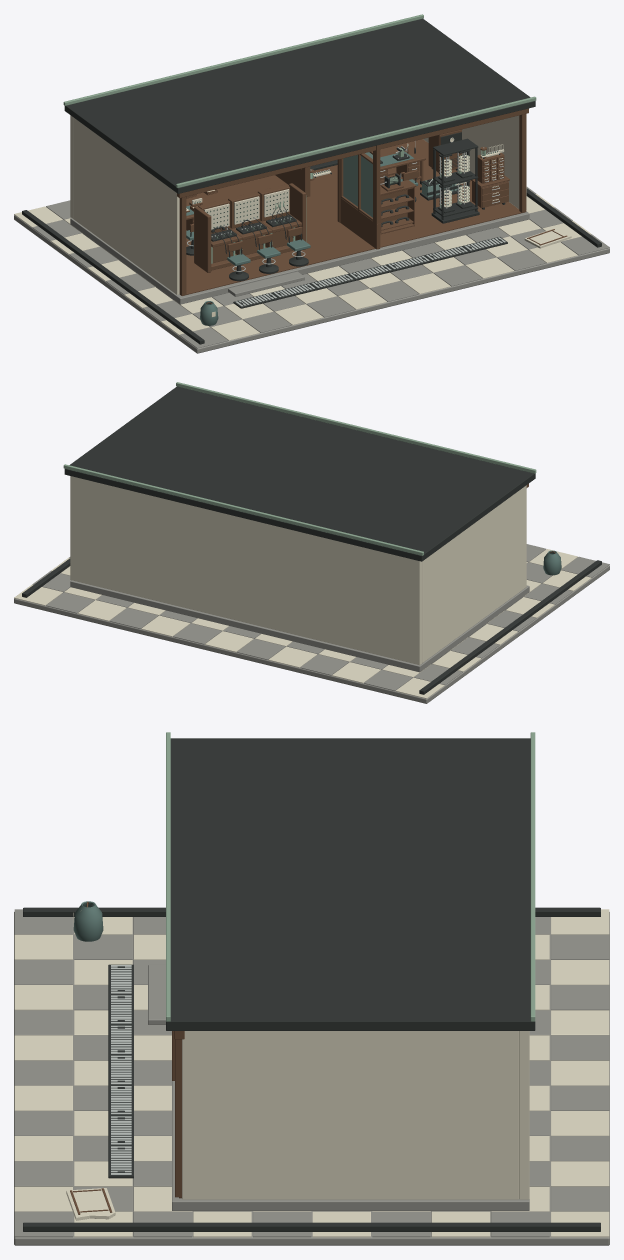
Rendered from abandoned-telephone-exchange-silent-oper-67480b84-starter-scene__32025.glb.
3 views of the same model, one above another, from view 1: azimuth 30°, elevation 25°; view 2: azimuth 150°, elevation 25°; view 3: azimuth 270°, elevation 25° (orthographic). The views are drawn at different scales.
Parts seen in each view (by area): view 1: 001-roofed-exchange-building/1, 001-roofed-exchange-building/2, 000-exchange-floor-base/2, 001-roofed-exchange-building/0, 000-exchange-floor-base/1, 001-roofed-exchange-building/4, 001-roofed-exchange-building/3, 032-selector-equipment-rack/1, 000-exchange-floor-base/0, 003-glazed-operator-partition/1, 044-spare-handset-cabinet/1, 003-glazed-operator-partition/3 (+14 smaller); view 2: 001-roofed-exchange-building/2, 001-roofed-exchange-building/1, 000-exchange-floor-base/2, 000-exchange-floor-base/1, 001-roofed-exchange-building/3, 001-roofed-exchange-building/4, 000-exchange-floor-base/0; view 3: 001-roofed-exchange-building/1, 001-roofed-exchange-building/2, 000-exchange-floor-base/2, 000-exchange-floor-base/1, 000-exchange-floor-base/0, 001-roofed-exchange-building/4, 001-roofed-exchange-building/3, 001-roofed-exchange-building/0, 070-fallen-ceiling-panel/1, 069-abandoned-mail-sack/1.
Boxes of the visible parts, x1,y1,x2,y2 form: 001-roofed-exchange-building/1: (64,18,535,193); 001-roofed-exchange-building/2: (70,114,526,294); 000-exchange-floor-base/2: (14,187,609,353); 001-roofed-exchange-building/0: (177,108,528,295); 000-exchange-floor-base/1: (14,194,591,340); 001-roofed-exchange-building/4: (70,211,529,304); 001-roofed-exchange-building/3: (63,14,536,187); 032-selector-equipment-rack/1: (431,138,479,223); 000-exchange-floor-base/0: (22,188,601,344); 003-glazed-operator-partition/1: (340,145,380,249); 044-spare-handset-cabinet/1: (380,180,416,234); 003-glazed-operator-partition/3: (343,155,372,217); 001-roofed-exchange-building/2: (70,476,526,665); 001-roofed-exchange-building/1: (64,386,535,561); 000-exchange-floor-base/2: (14,544,609,703); 000-exchange-floor-base/1: (14,549,591,698); 001-roofed-exchange-building/3: (63,382,536,555); 001-roofed-exchange-building/4: (70,580,529,672); 000-exchange-floor-base/0: (22,558,601,694); 001-roofed-exchange-building/1: (166,738,535,1030); 001-roofed-exchange-building/2: (182,1031,529,1199); 000-exchange-floor-base/2: (14,909,609,1245); 000-exchange-floor-base/1: (14,909,609,1237); 000-exchange-floor-base/0: (23,907,600,1231); 001-roofed-exchange-building/4: (148,964,529,1210); 001-roofed-exchange-building/3: (166,732,535,1021); 001-roofed-exchange-building/0: (174,1031,184,1198); 070-fallen-ceiling-panel/1: (66,1188,115,1220); 069-abandoned-mail-sack/1: (73,901,103,941).
Bounding box in the file's own units: 13 × 3.86 × 10.
